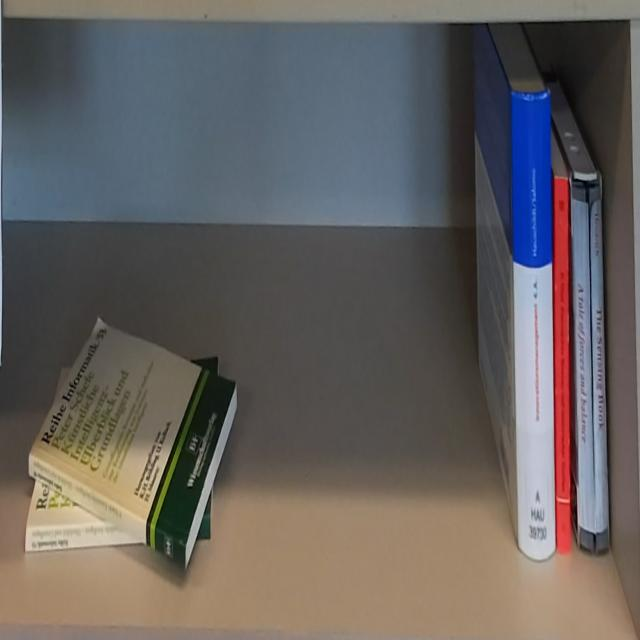Book Spine: (510, 91, 556, 565), (28, 455, 185, 569), (573, 183, 594, 551), (588, 184, 608, 552), (554, 177, 571, 555)
